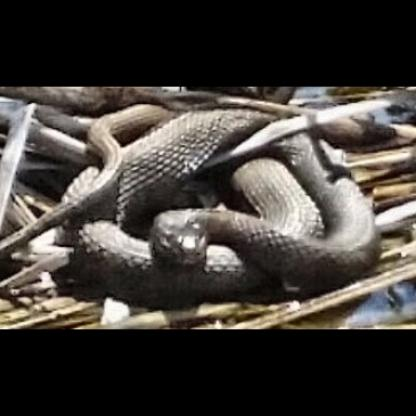Snake: (10, 97, 410, 314)
